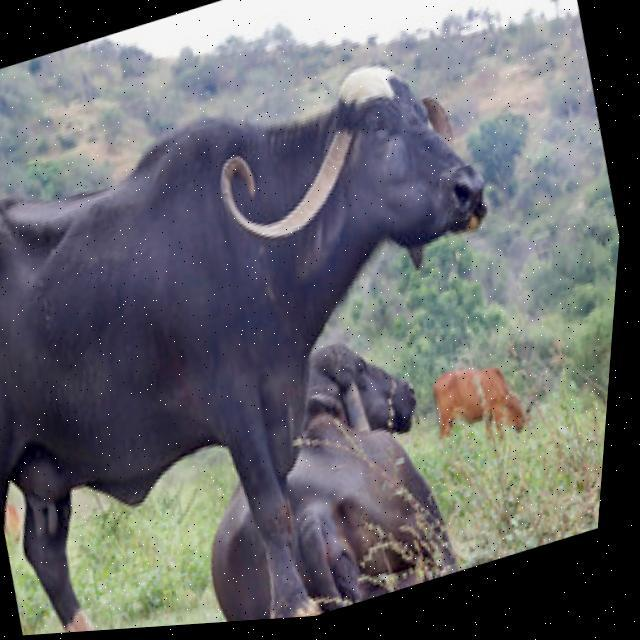Buffalo: (0, 19, 588, 640)
